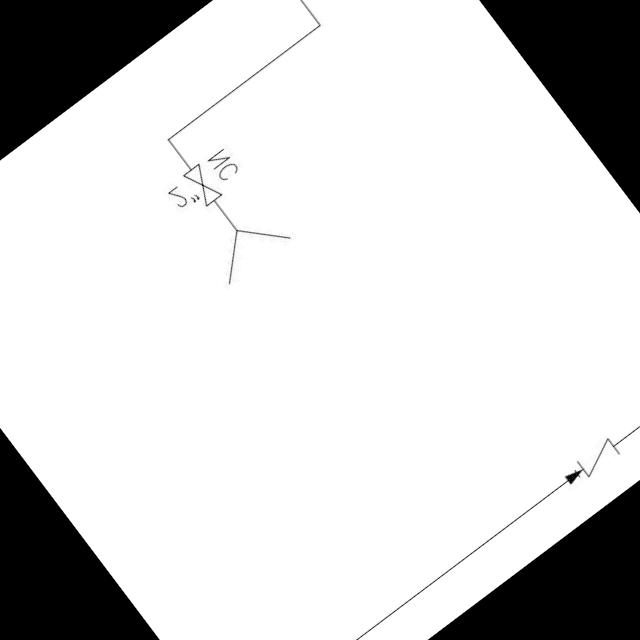GV: (180, 158, 228, 210)
